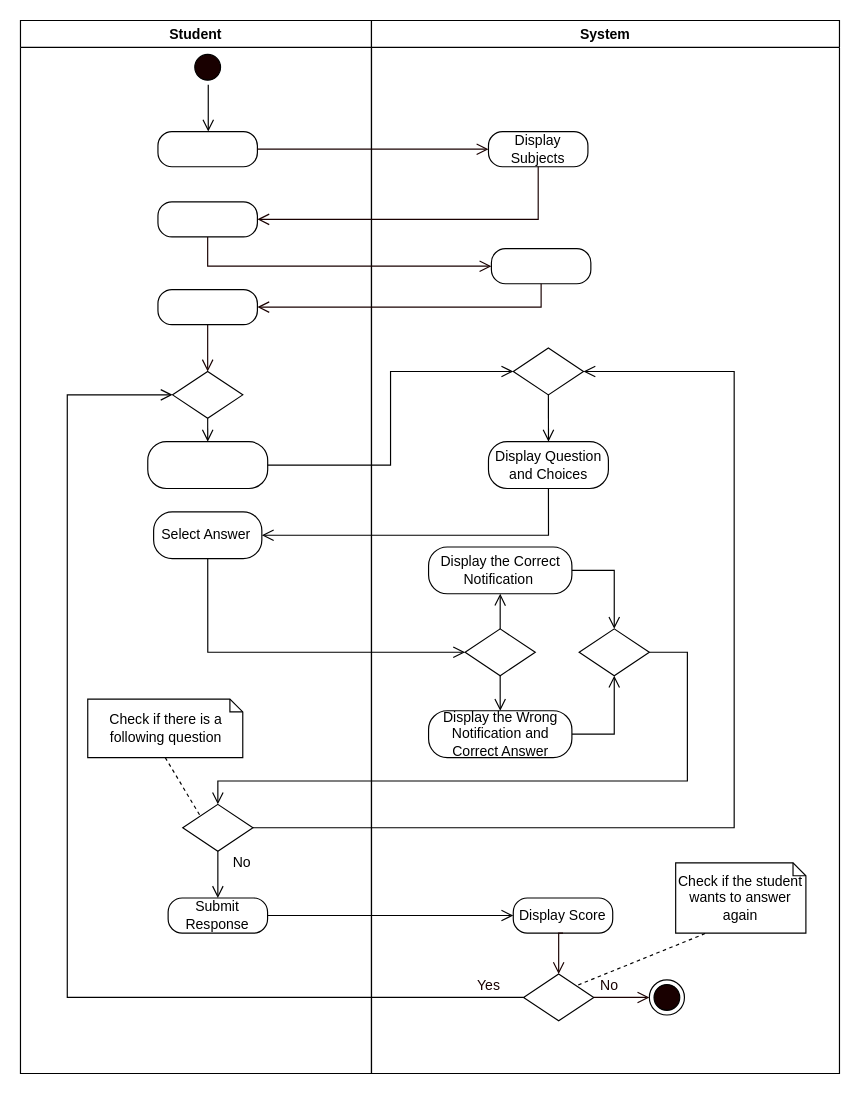
Some shapes in this 860 by 1094 pixel diagram are drawn without their labels. The centre of each missing label's shape, as x and y in pixels:
Choose Subject: point (207, 219)
Choose Topic: point (207, 306)
Display Topics: point (540, 265)
Open Questions Bank: point (207, 464)
Take Trial Quiz: point (207, 148)
